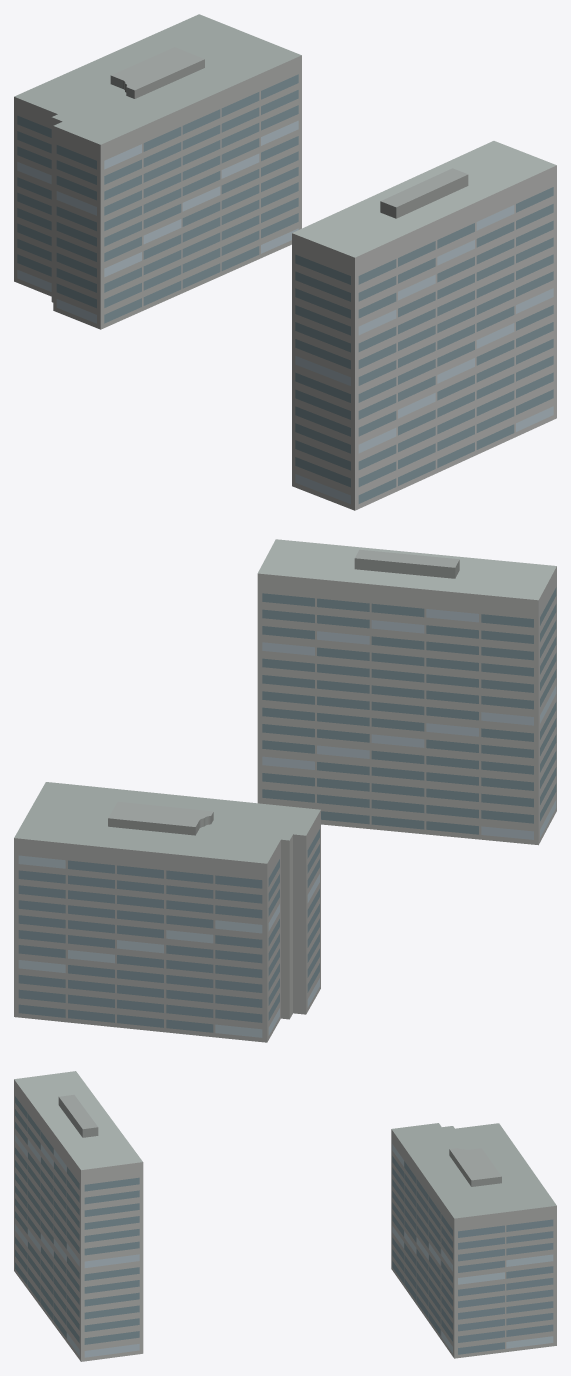
Rendered from apt-a13501007.glb.
3 renders of one model, top to bottom at view 1: azimuth 30°, elevation 25°; view 2: azimuth 150°, elevation 25°; view 3: azimuth 270°, elevation 25°, orthographic. The views are drawn at different scales.
Visible parts, largest first — view 1: apt-a13501007; view 2: apt-a13501007; view 3: apt-a13501007.
Boxes of the visible parts, x1,y1,x2,y2 form: apt-a13501007: [14, 14, 556, 510]; apt-a13501007: [14, 539, 556, 1042]; apt-a13501007: [14, 1071, 556, 1361].
Bounding box in the file's own units: 50.77 × 47.81 × 117.
